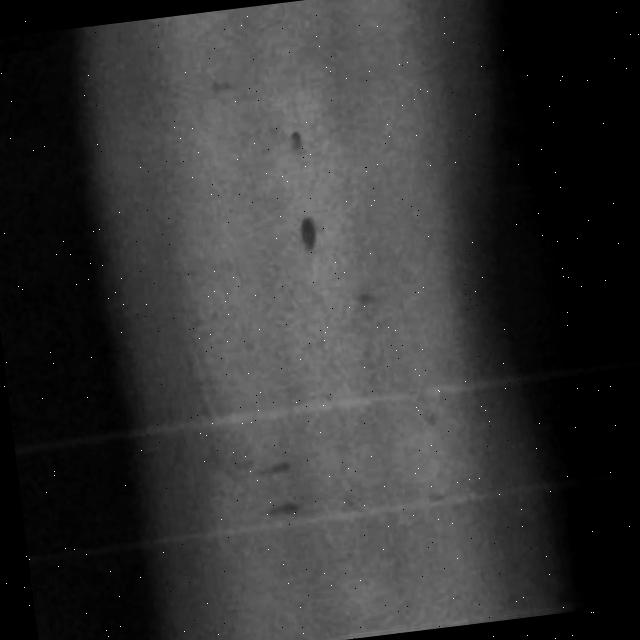Pore: (251, 446, 311, 526), (266, 109, 317, 160), (284, 205, 328, 252)
